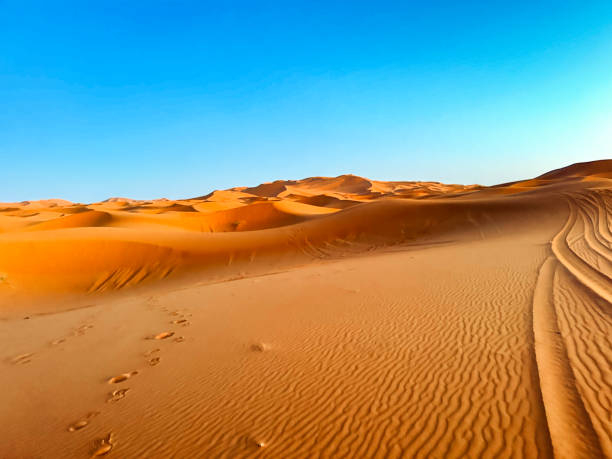human_footprint: (67, 411, 99, 431), (91, 432, 115, 457), (107, 371, 137, 383), (107, 388, 129, 402), (144, 348, 160, 365), (10, 353, 34, 364), (73, 324, 93, 335), (150, 331, 174, 339), (250, 342, 270, 351), (171, 318, 189, 325), (50, 337, 65, 345), (148, 356, 160, 365), (174, 336, 184, 342)
